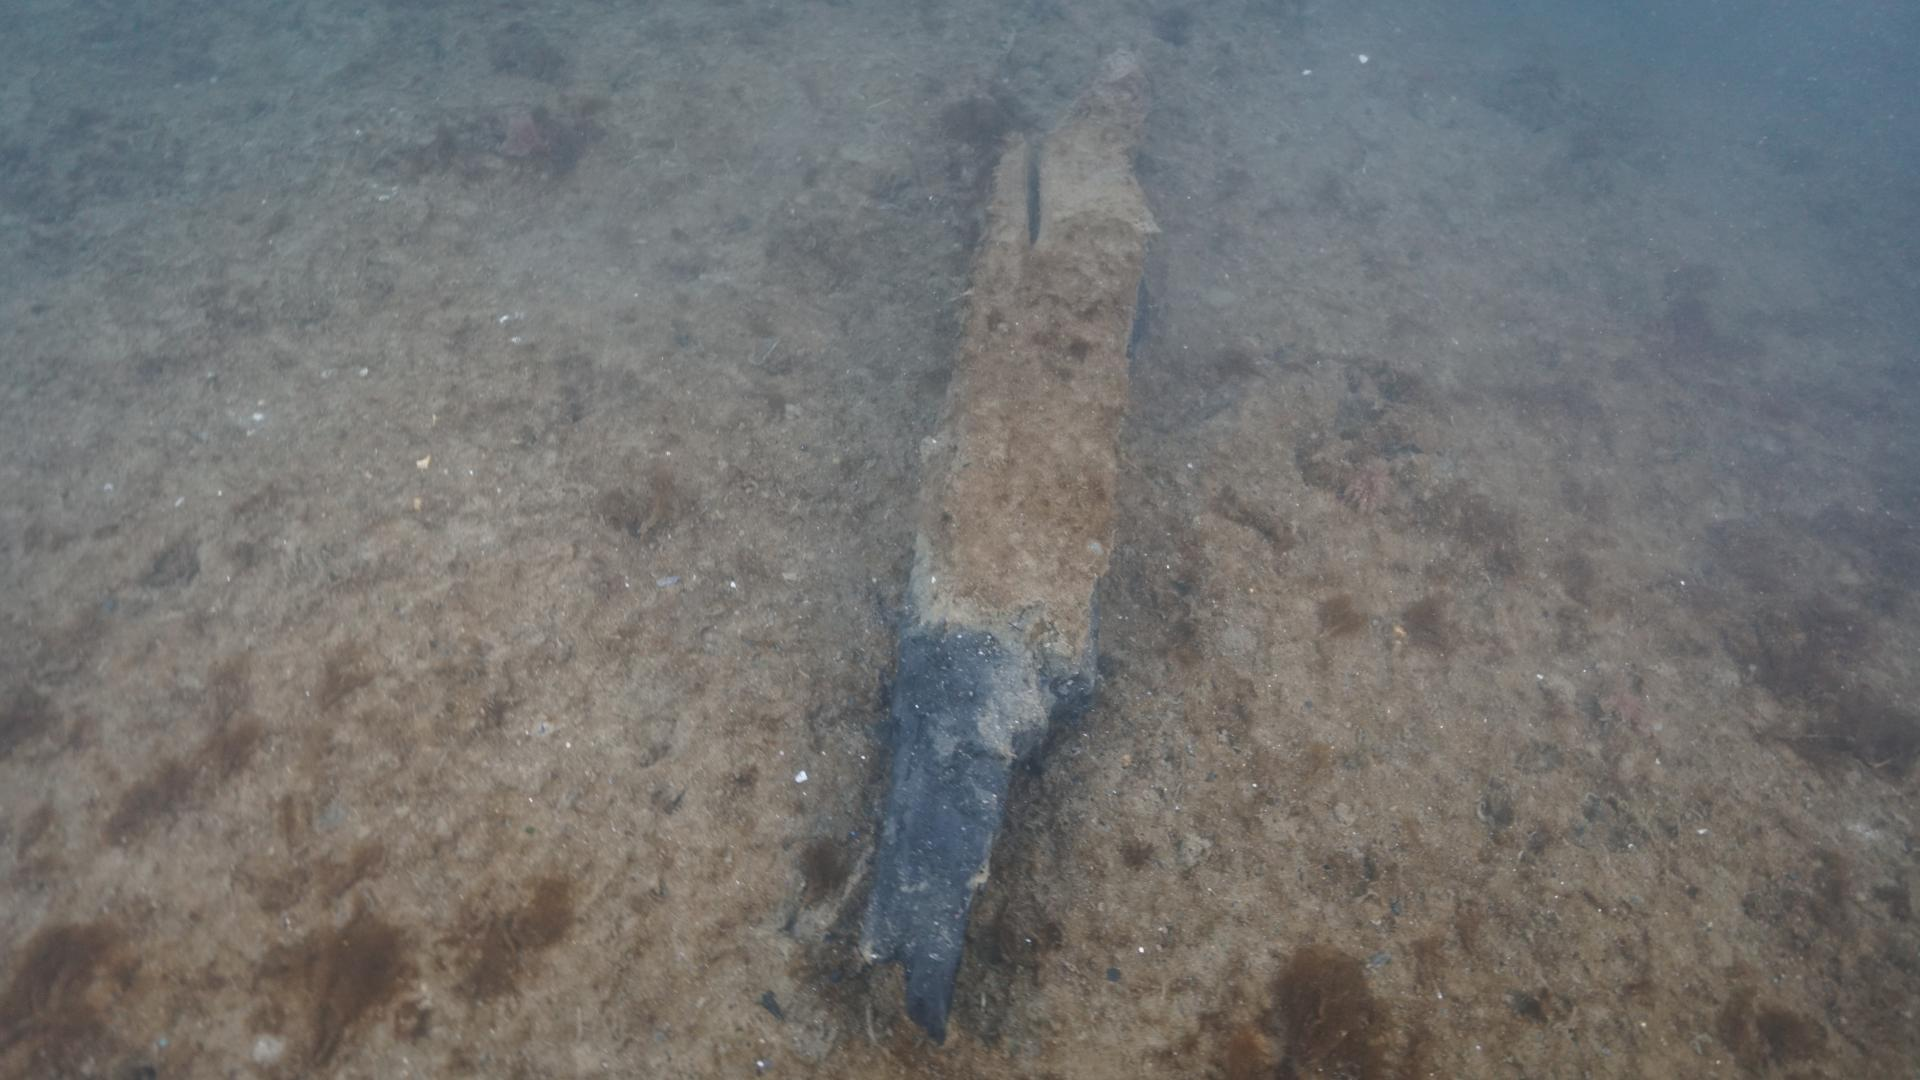wood: (851, 30, 1168, 1052)
